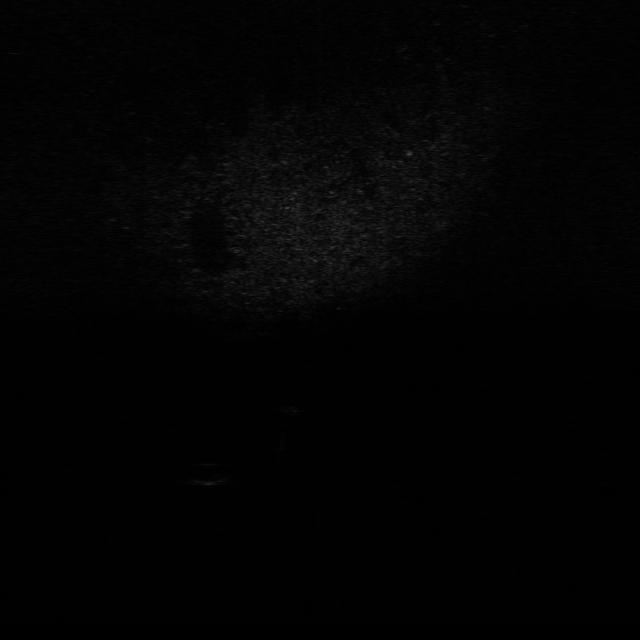ball: (187, 456, 238, 490)
cube: (263, 398, 307, 418)
